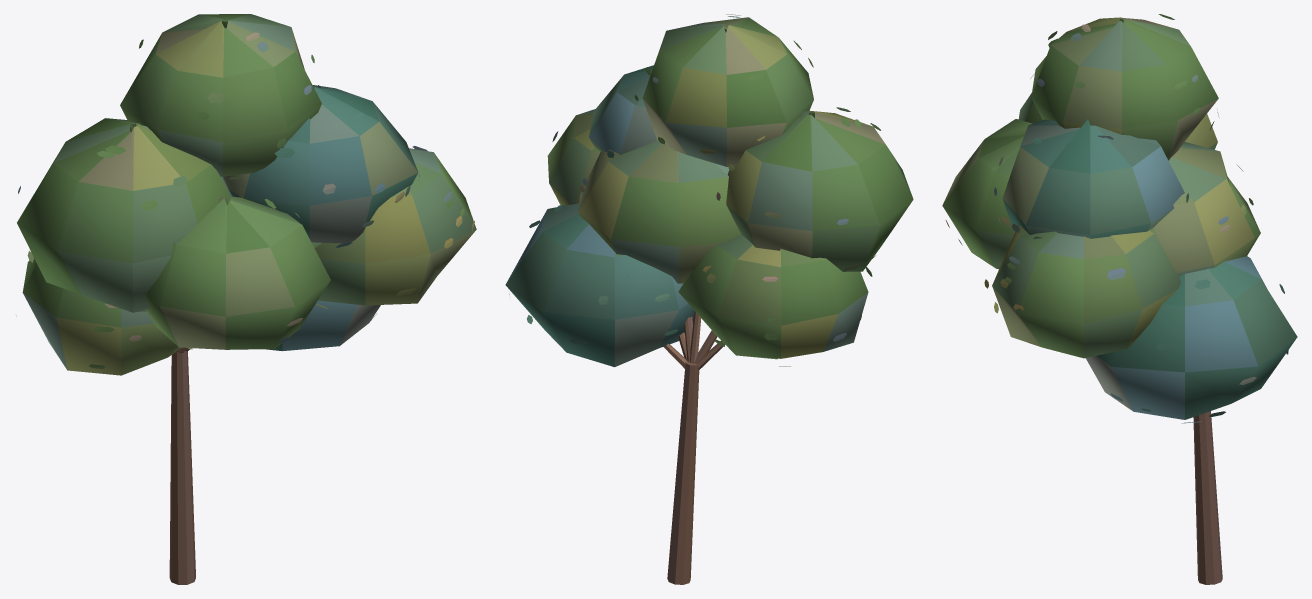
File: ART_MoatTree_Airy.glb
The picture shows the model from 3 angles, left to right: view 1: azimuth 30°, elevation 25°; view 2: azimuth 150°, elevation 25°; view 3: azimuth 270°, elevation 25°; orthographic projection. The views are drawn at different scales.
Visible parts, largest first — view 1: ART_MoatTree_Airy; view 2: ART_MoatTree_Airy; view 3: ART_MoatTree_Airy.
Boxes of the visible parts, left/top/right/bottom form: ART_MoatTree_Airy: left=16, top=14, right=476, bottom=584; ART_MoatTree_Airy: left=505, top=14, right=913, bottom=584; ART_MoatTree_Airy: left=942, top=14, right=1297, bottom=584.
Size of the model in its own units: 7.08 by 9.77 by 5.63.
